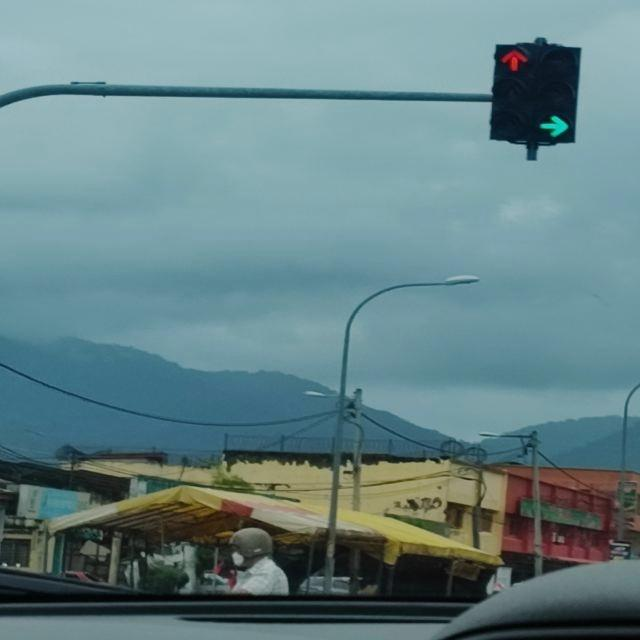Green: (535, 46, 582, 142)
Red: (488, 44, 539, 140)
